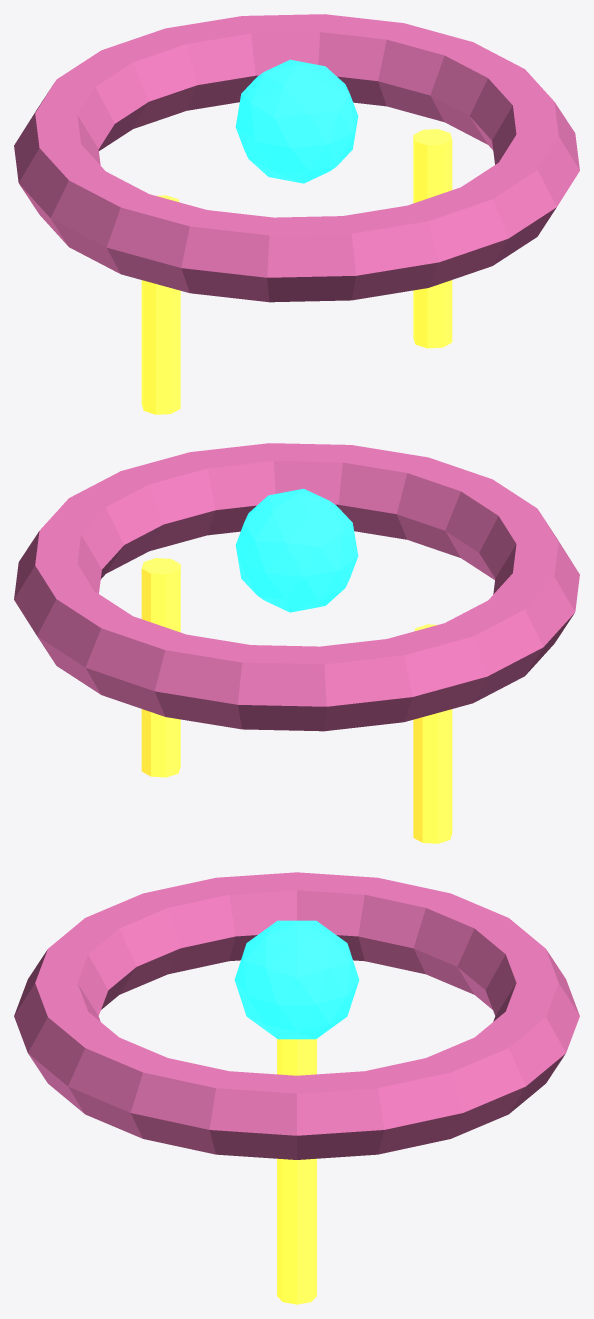
File: halo_antenna.glb
3 renders of one model, top to bottom at view 1: azimuth 30°, elevation 25°; view 2: azimuth 150°, elevation 25°; view 3: azimuth 270°, elevation 25°, orthographic.
Visible parts, largest first — view 1: Halo, HaloStar, HaloSupport, HaloSupport.001; view 2: Halo, HaloStar, HaloSupport, HaloSupport.001; view 3: Halo, HaloStar, HaloSupport.001, HaloSupport.
Part boxes in pixels (<box>): Halo: <box>14,14,579,302</box>; HaloStar: <box>235,59,358,183</box>; HaloSupport: <box>141,195,180,414</box>; HaloSupport.001: <box>413,129,452,348</box>; Halo: <box>14,443,579,731</box>; HaloStar: <box>235,488,358,612</box>; HaloSupport: <box>413,624,452,843</box>; HaloSupport.001: <box>141,558,180,777</box>; Halo: <box>14,872,579,1159</box>; HaloStar: <box>234,920,359,1039</box>; HaloSupport.001: <box>277,1158,316,1304</box>; HaloSupport: <box>277,1039,316,1075</box>.
Bounding box in the file's own units: 1.27 × 0.76 × 1.27.
